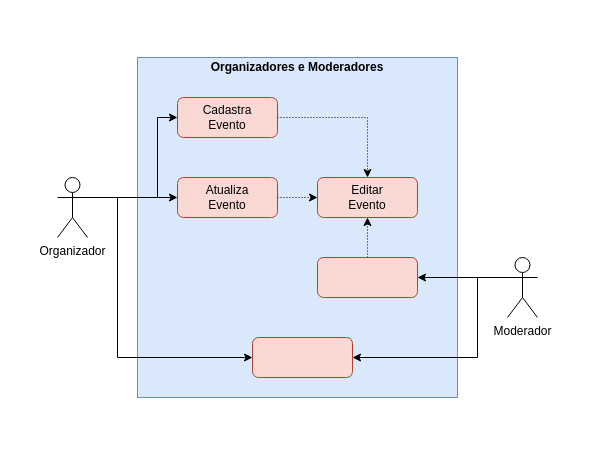
The diagram is 594 pixels wide and 454 high, and some of its shapes have lost their labels. Here are the shapes that lost their labels. From the top down, the centre of each, then its label:
point (367, 277): Analisa Evento
point (302, 357): Listar Eventos
